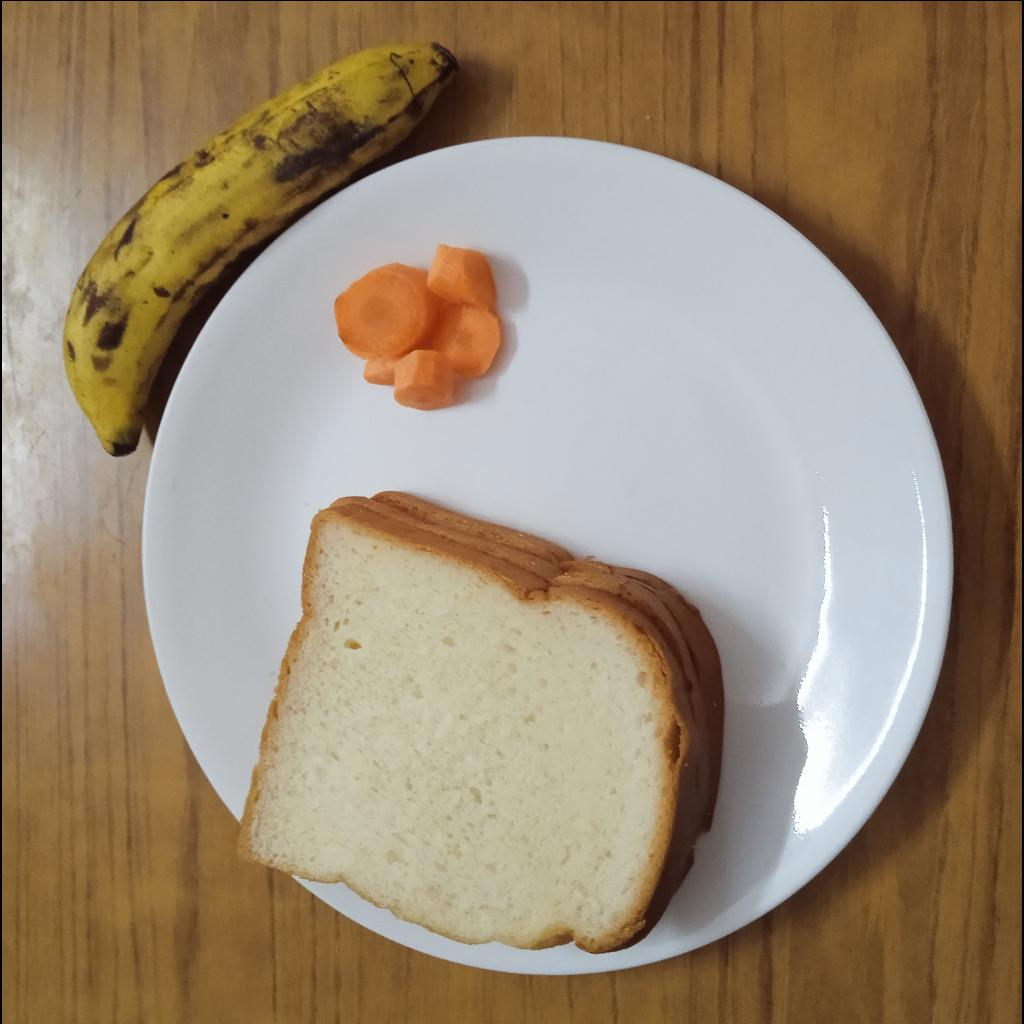banana: (59, 37, 458, 462)
bread: (236, 491, 724, 963)
carrot: (334, 244, 502, 413)
